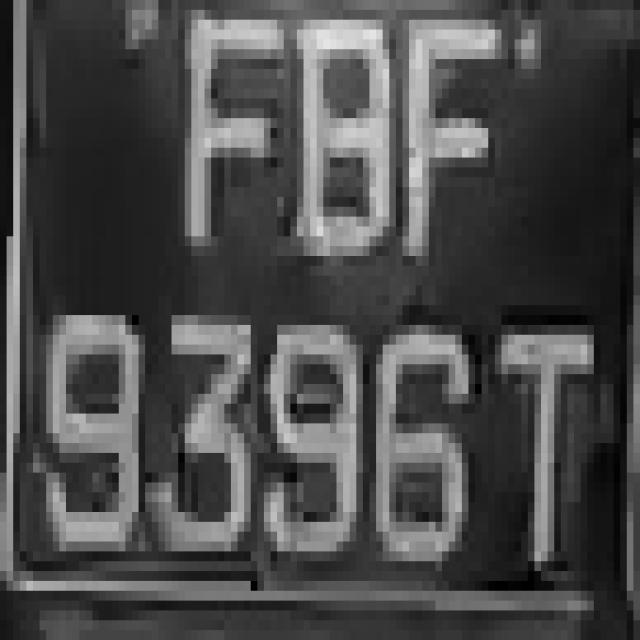3: (138, 276, 250, 590)
6: (363, 276, 468, 581)
9: (26, 276, 152, 561), (257, 296, 363, 552)
B: (290, 10, 409, 285)
F: (172, 0, 284, 266), (402, 20, 502, 246)
T: (482, 286, 600, 571)
